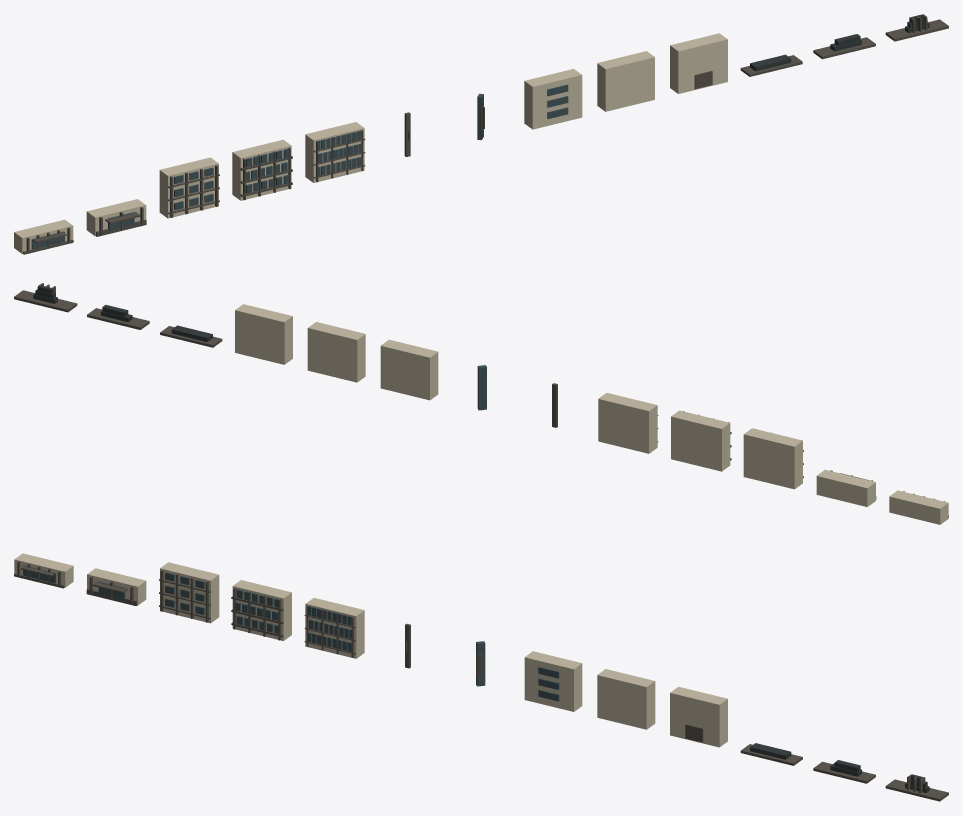
The model's file is art-deco-setback.glb.
The picture shows the model from 3 angles, top to bottom: view 1: azimuth 30°, elevation 25°; view 2: azimuth 150°, elevation 25°; view 3: azimuth 330°, elevation 25°; orthographic projection.
Visible parts, largest first — view 1: middle-wall (×3), party-wall, rear-wall, exposed-wall, base-shell (×2), cornice; view 2: middle-wall (×3), base-shell (×2), party-wall, exposed-wall, rear-wall, cornice; view 3: middle-wall (×3), party-wall, rear-wall, exposed-wall, base-shell (×2).
Part boxes in pixels (x1,y1,x2,y2): middle-wall (×3): [159, 122, 364, 218]; party-wall: [597, 51, 654, 111]; rear-wall: [670, 33, 727, 93]; exposed-wall: [524, 69, 582, 129]; base-shell (×2): [14, 199, 146, 253]; cornice: [885, 19, 948, 41]; middle-wall (×3): [598, 392, 802, 489]; base-shell (×2): [816, 470, 948, 524]; party-wall: [307, 322, 365, 382]; exposed-wall: [380, 339, 438, 400]; rear-wall: [235, 304, 292, 364]; cornice: [14, 290, 77, 312]; middle-wall (×3): [160, 562, 364, 658]; party-wall: [597, 669, 655, 729]; rear-wall: [670, 686, 727, 747]; exposed-wall: [524, 651, 582, 711]; base-shell (×2): [14, 553, 146, 605].
Bounding box in the file's own units: 63.61 × 2.8 × 1.6.
